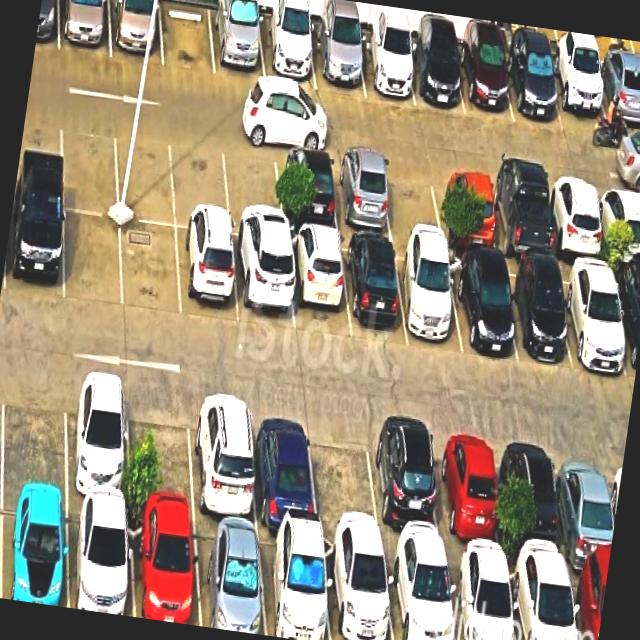empty: (309, 412, 381, 543), (128, 382, 195, 517), (3, 366, 66, 496), (223, 138, 284, 242), (115, 123, 175, 226), (121, 219, 181, 319), (172, 131, 230, 233), (61, 114, 118, 215), (65, 210, 123, 308), (381, 158, 444, 241), (160, 0, 215, 75)
occupied: (367, 419, 445, 552), (432, 426, 503, 560), (190, 392, 257, 526), (250, 401, 318, 532), (66, 372, 130, 507), (503, 434, 568, 566), (193, 519, 266, 636), (129, 510, 200, 626), (557, 263, 629, 374), (259, 529, 330, 640), (555, 441, 615, 571), (68, 500, 134, 617), (0, 493, 67, 608), (447, 254, 517, 362), (394, 245, 463, 354), (499, 260, 571, 364), (323, 537, 393, 640), (341, 237, 407, 343), (287, 230, 350, 338), (384, 548, 456, 640), (5, 197, 64, 301), (446, 553, 516, 640), (176, 228, 239, 324), (232, 237, 294, 332), (488, 173, 554, 261), (507, 561, 577, 640), (275, 146, 339, 232), (435, 166, 498, 251), (331, 152, 393, 237), (547, 57, 611, 138), (546, 179, 606, 262), (504, 48, 563, 130), (456, 42, 514, 122), (405, 39, 465, 114), (258, 14, 316, 90), (356, 32, 415, 105), (210, 6, 265, 83), (592, 62, 640, 142), (311, 25, 365, 96), (596, 184, 640, 266), (109, 0, 163, 65), (611, 269, 640, 380), (59, 0, 111, 57), (568, 567, 608, 640)
